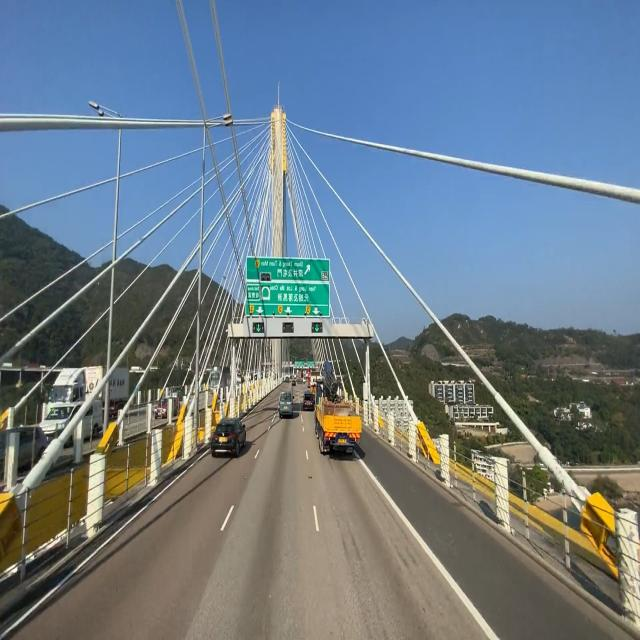Car: (313, 359, 359, 459), (208, 415, 248, 463), (276, 386, 298, 422)
